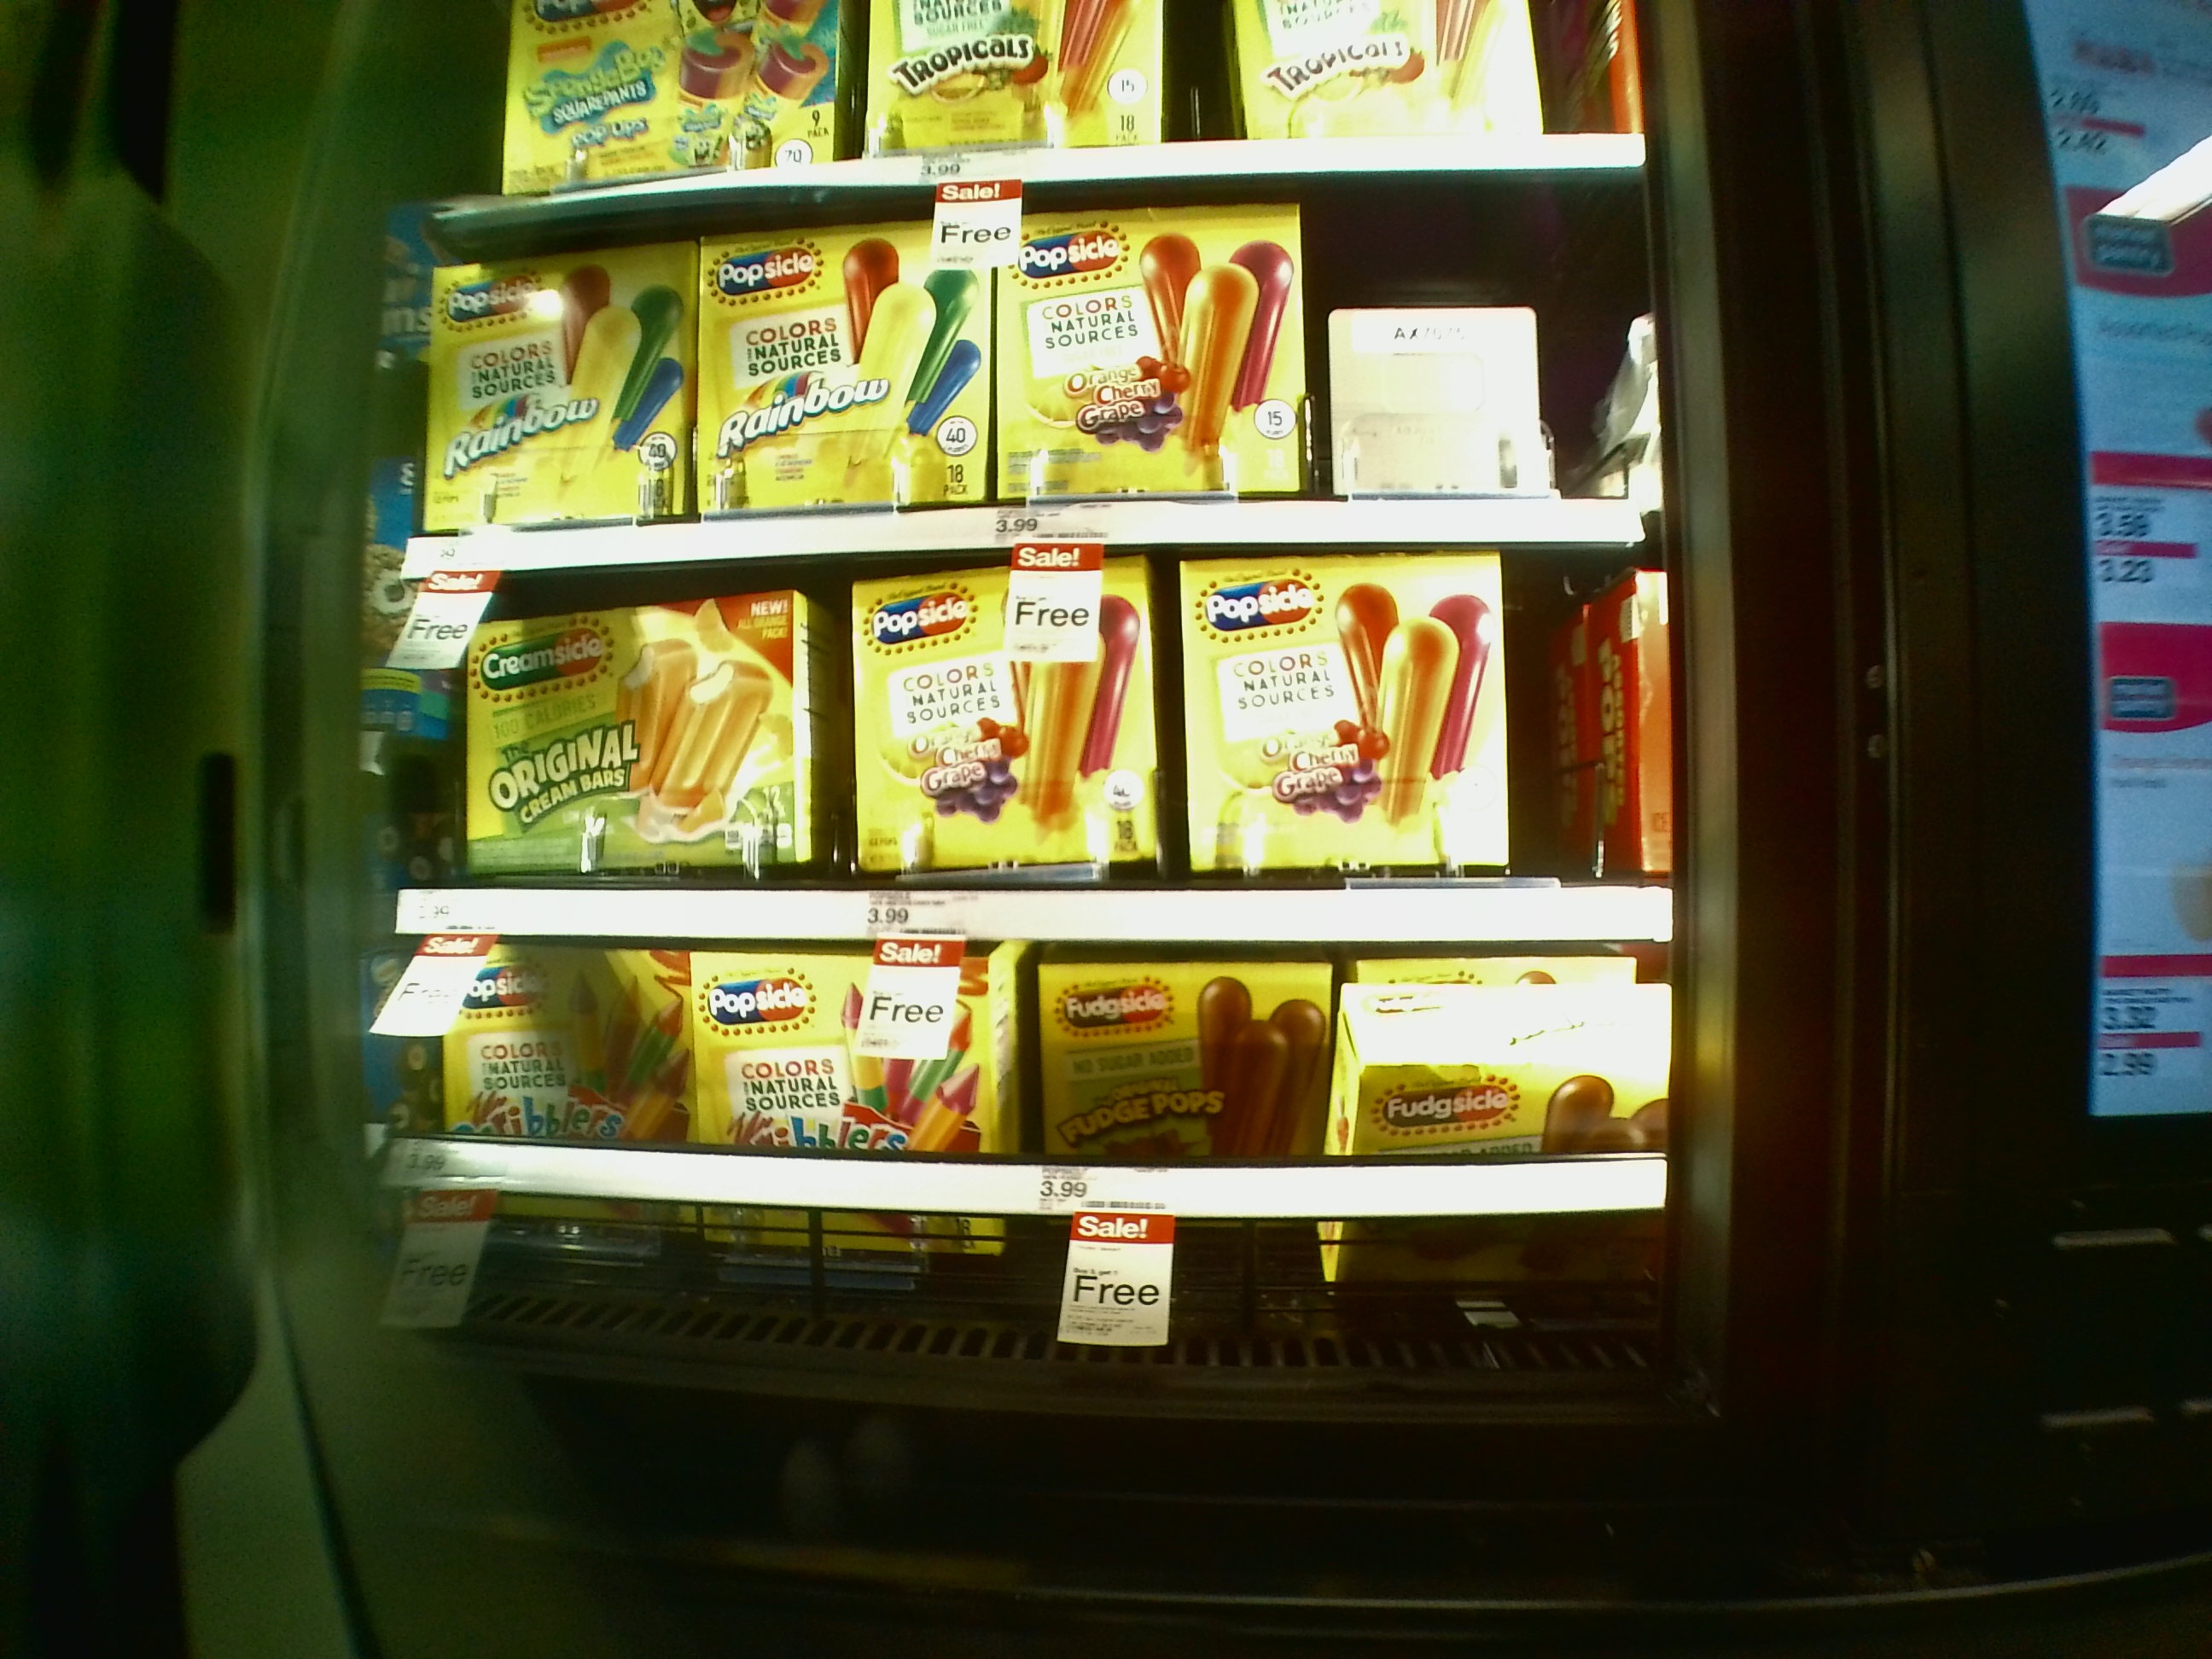shelf: (409, 934, 1653, 1370), (411, 549, 1665, 946), (411, 174, 1641, 549)
